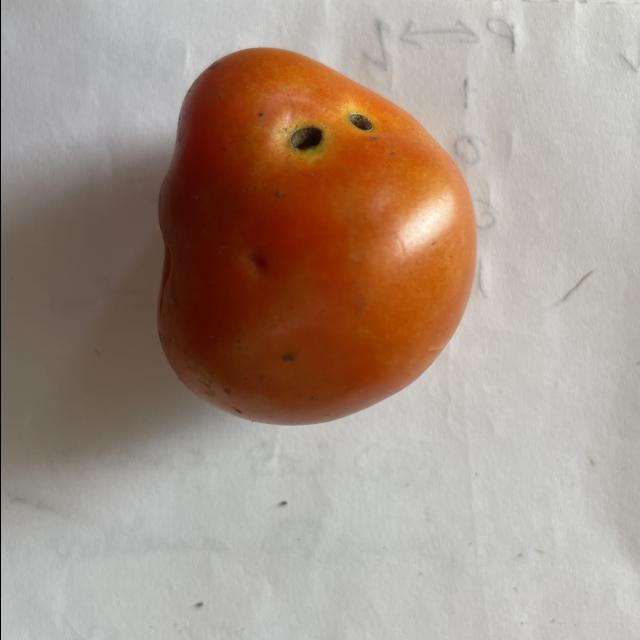fruitworm_bore: (283, 97, 380, 155)
